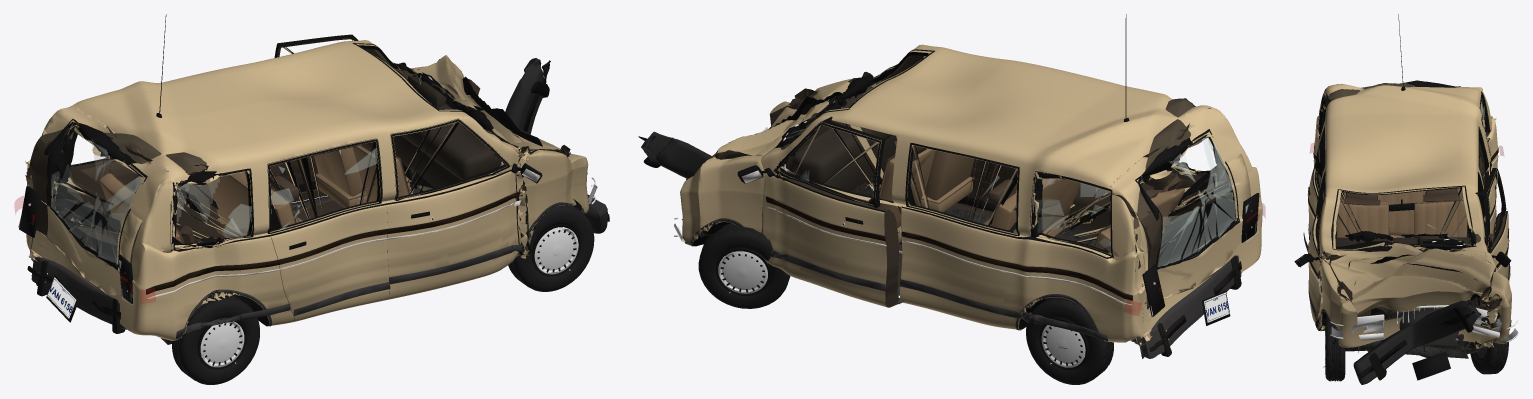
File: minivan86_front_d2_lod1.glb
3 views of the same model, side by side, from view 1: azimuth 30°, elevation 25°; view 2: azimuth 150°, elevation 25°; view 3: azimuth 270°, elevation 25° (orthographic). The views are drawn at different scales.
Visible parts, largest first — view 1: Body, Interior, Door_FR, Door_SR, Liftgate, Glass_Liftgate, Wheel_RR_mesh, Wheel_FR_mesh, Trim, Trim_FR, Trim_SR, Hood (+6 smaller); view 2: Body, Door_FL, Interior, Trim, Liftgate, Glass_Liftgate, Wheel_FL_mesh, Wheel_RL_mesh, Trim_FL, Bumper_R, Hood, Glass (+4 smaller); view 3: Body, Hood, Interior, Bumper_F, Ends, Trim, Glass, Door_FL, Door_FR, Wheel_FR_mesh, Underbody, Wheel_FL_mesh (+6 smaller).
Part boxes in pixels (<box>): Body: <box>25,40,588,340</box>; Interior: <box>100,72,502,243</box>; Door_FR: <box>386,119,520,299</box>; Door_SR: <box>267,138,389,321</box>; Liftgate: <box>29,106,178,295</box>; Glass_Liftgate: <box>44,119,147,270</box>; Wheel_RR_mesh: <box>172,295,259,384</box>; Wheel_FR_mesh: <box>508,205,594,291</box>; Trim: <box>146,14,584,340</box>; Trim_FR: <box>386,119,542,284</box>; Trim_SR: <box>268,139,390,316</box>; Hood: <box>412,55,569,153</box>; Body: <box>680,44,1262,345</box>; Door_FL: <box>762,116,898,307</box>; Interior: <box>782,87,1184,249</box>; Trim: <box>690,14,1195,341</box>; Liftgate: <box>1110,107,1250,309</box>; Glass_Liftgate: <box>1135,129,1240,269</box>; Wheel_FL_mesh: <box>698,223,790,308</box>; Wheel_RL_mesh: <box>1026,297,1113,384</box>; Trim_FL: <box>737,122,904,303</box>; Bumper_R: <box>1138,255,1241,358</box>; Hood: <box>710,81,851,159</box>; Glass: <box>774,49,1219,251</box>; Body: <box>1312,83,1511,348</box>; Hood: <box>1326,243,1496,316</box>; Interior: <box>1335,188,1469,248</box>; Bumper_F: <box>1353,300,1481,384</box>; Ends: <box>1330,305,1518,380</box>; Trim: <box>1308,14,1511,351</box>; Glass: <box>1318,93,1490,251</box>; Door_FL: <box>1475,168,1510,281</box>; Door_FR: <box>1308,174,1325,323</box>; Wheel_FR_mesh: <box>1323,315,1345,381</box>; Underbody: <box>1345,339,1486,358</box>; Wheel_FL_mesh: <box>1470,342,1508,374</box>.
Size of the model in its own units: 4.25 by 2.5 by 2.08.
33 materials, 5 textured.
